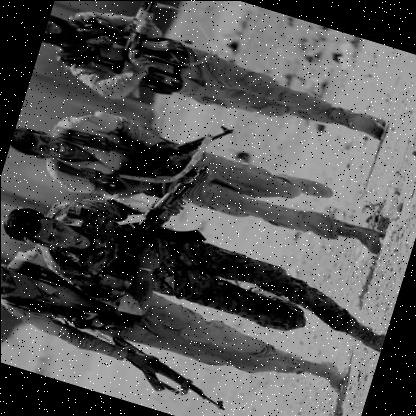rifle: (88, 138, 226, 312), (90, 329, 241, 416), (116, 100, 235, 206), (110, 0, 205, 101)
